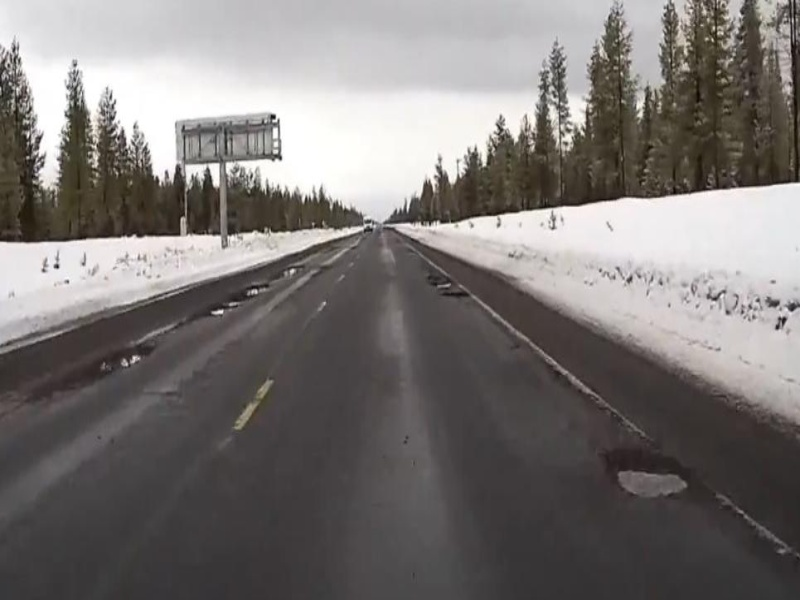pothole: (602, 447, 690, 504), (84, 343, 155, 376)
